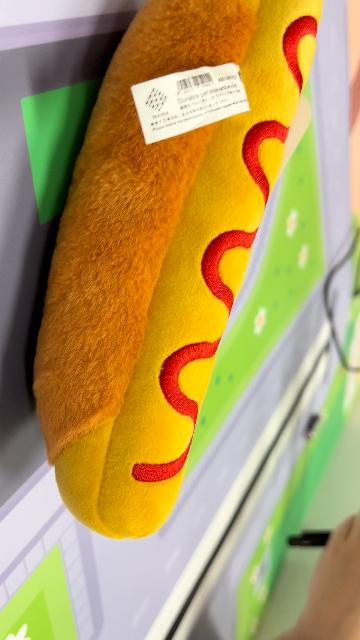hotdog: (32, 2, 324, 542)
